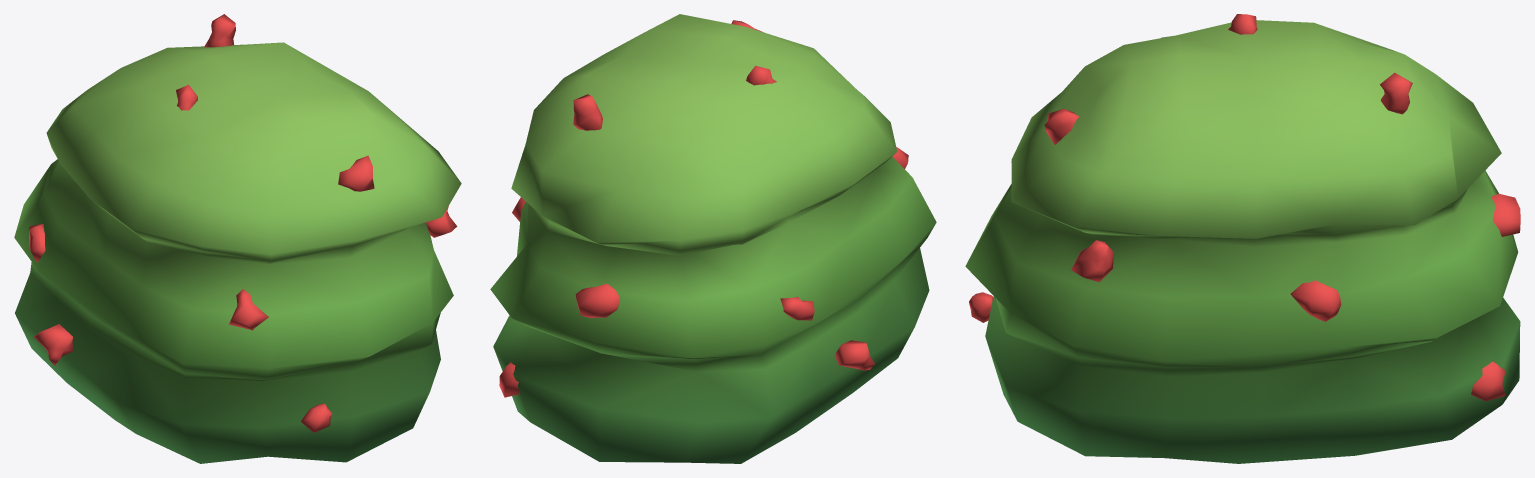
Rendered from BushBerries_1.fbx.
3 views of the same model, side by side, from view 1: azimuth 30°, elevation 25°; view 2: azimuth 150°, elevation 25°; view 3: azimuth 270°, elevation 25° (orthographic). The views are drawn at different scales.
Parts seen in each view (by area): view 1: BushBerries_1; view 2: BushBerries_1; view 3: BushBerries_1.
Boxes of the visible parts, x1,y1,x2,y2 form: BushBerries_1: (14, 14, 461, 463); BushBerries_1: (490, 14, 936, 463); BushBerries_1: (965, 14, 1520, 463).
Bounding box in the file's own units: 1.39 × 1.28 × 1.72.
